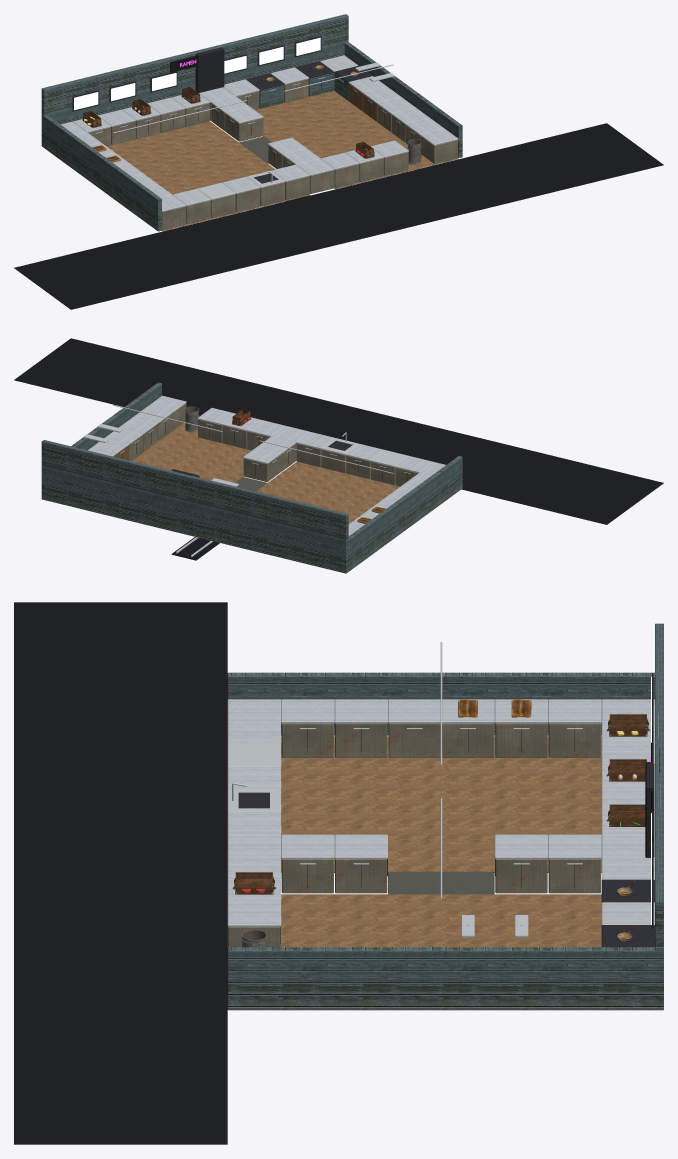
The model's file is ramen.glb.
3 views of the same model, one above another, from view 1: azimuth 30°, elevation 25°; view 2: azimuth 150°, elevation 25°; view 3: azimuth 270°, elevation 25° (orthographic). The views are drawn at different scales.
Parts seen in each view (by area): view 1: statis, jembatan; view 2: statis; view 3: statis, jembatan.
Part boxes in pixels (bbox=[...]): statis: bbox=[14, 14, 663, 309]; jembatan: bbox=[239, 136, 271, 163]; statis: bbox=[14, 338, 663, 573]; statis: bbox=[14, 602, 663, 1144]; jembatan: bbox=[388, 871, 494, 894].
Size of the model in its own units: 28.8 by 3.9 by 14.6.
Materials: 27 (16 with a texture image).
